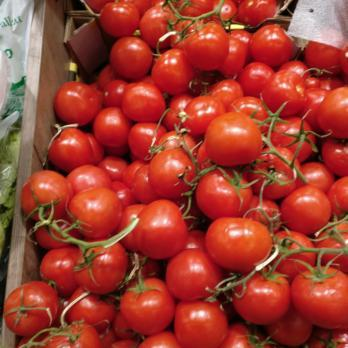Tomato: (51, 77, 348, 343), (93, 0, 288, 80)
